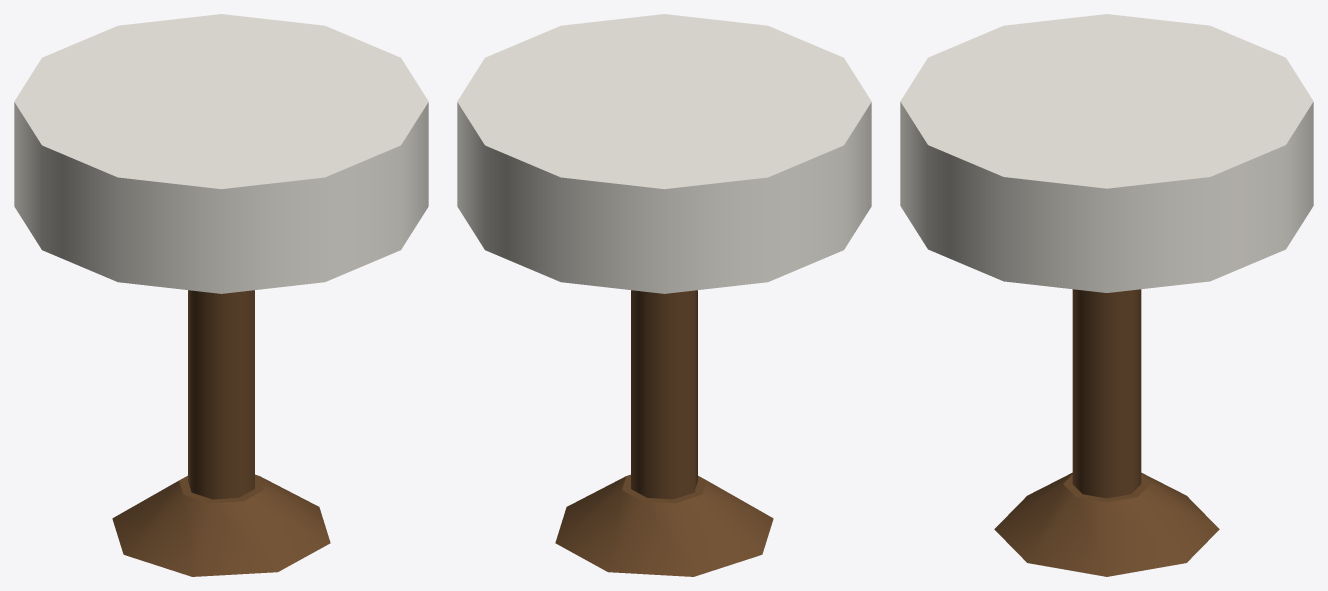
The picture shows the model from 3 angles, left to right: view 1: azimuth 30°, elevation 25°; view 2: azimuth 150°, elevation 25°; view 3: azimuth 270°, elevation 25°; orthographic projection.
Parts seen in each view (by area): view 1: parametric-variant-round-table-1st-pub-82857d0a01f5e545dba4; view 2: parametric-variant-round-table-1st-pub-82857d0a01f5e545dba4; view 3: parametric-variant-round-table-1st-pub-82857d0a01f5e545dba4.
Part boxes in pixels (box(x1,y1,x2,y2)): parametric-variant-round-table-1st-pub-82857d0a01f5e545dba4: box(14, 14, 428, 576); parametric-variant-round-table-1st-pub-82857d0a01f5e545dba4: box(457, 14, 871, 576); parametric-variant-round-table-1st-pub-82857d0a01f5e545dba4: box(900, 14, 1313, 576).
Size of the model in its own units: 0.66 by 0.754 by 0.66.
